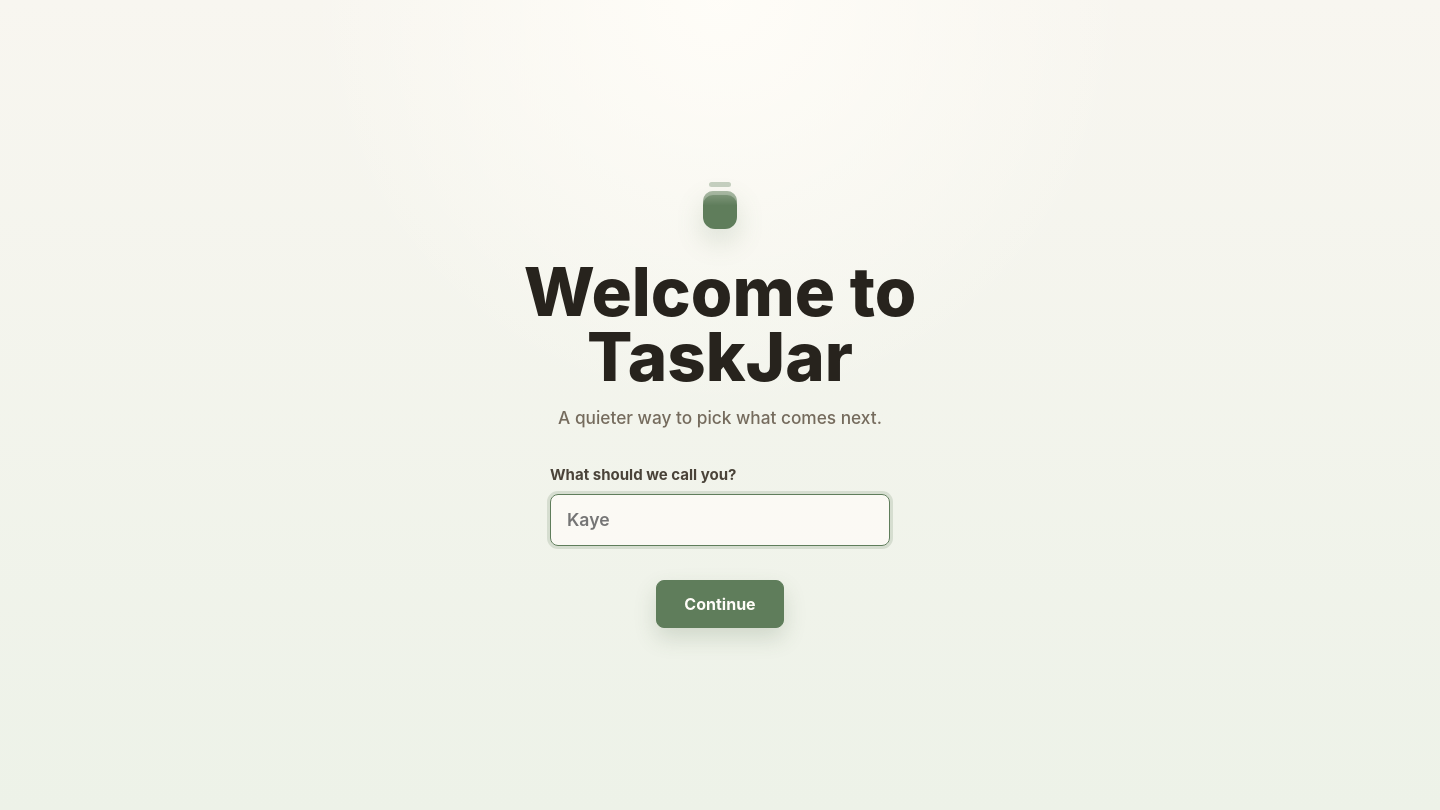
Test case: onboards first-run users with a name and starter jars
The image size is (1440, 810).
Type "Mina" into the field with placeholder "Kaye" at (720, 520), box [550,494,890,546]
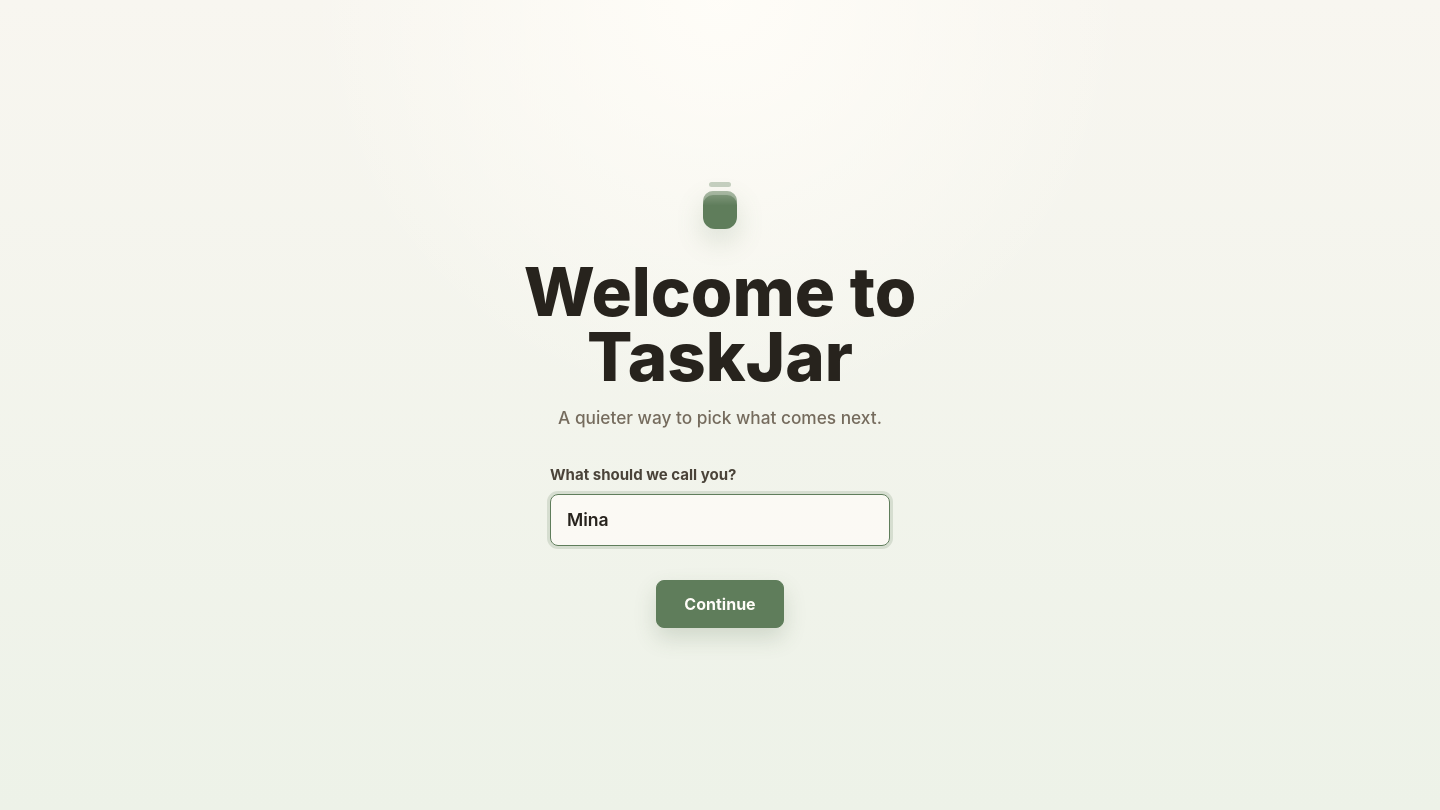
Click the button "Continue" at (720, 604), box [656,580,784,628]
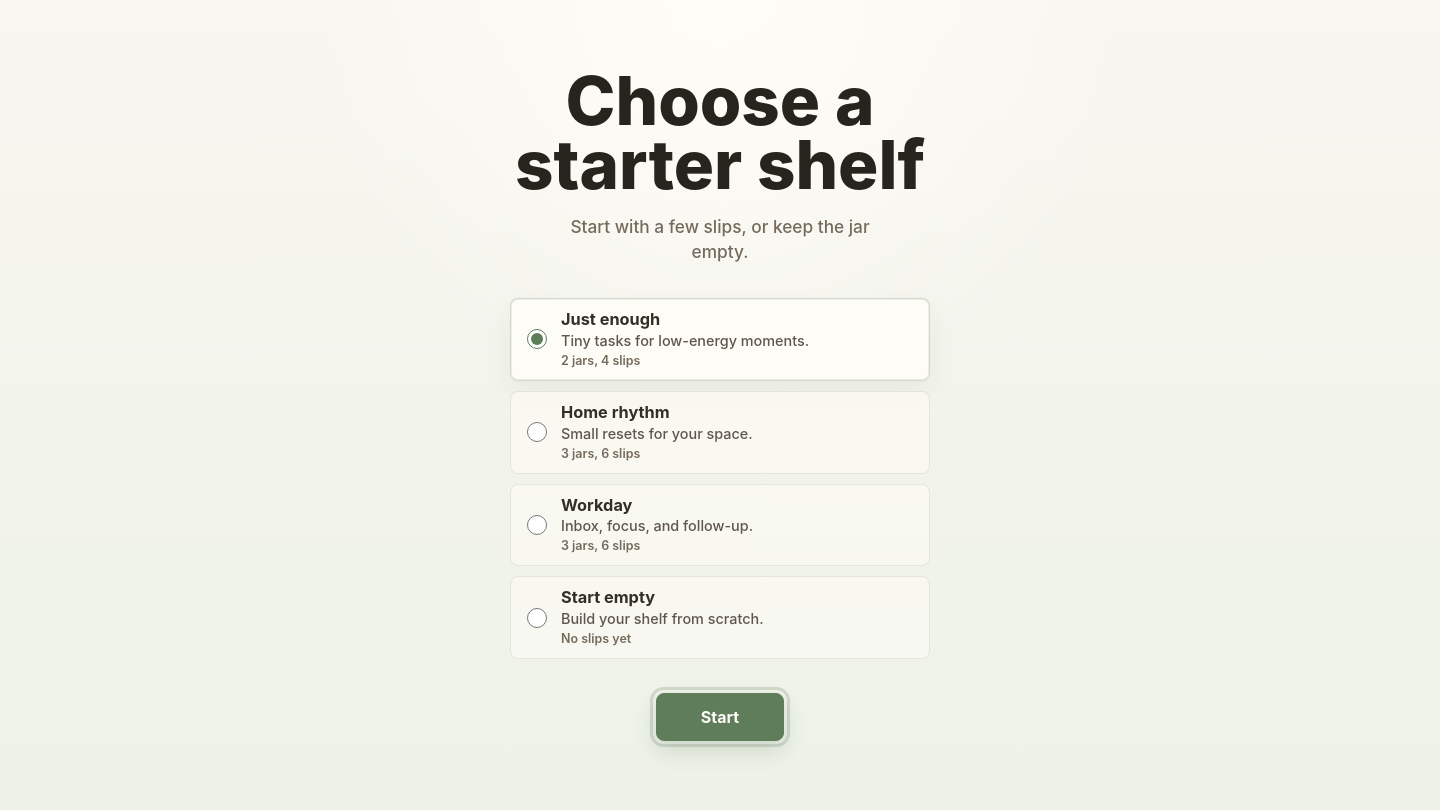
Expected: the dialog "Choose a starter shelf" is shown
Click the radio button labelled "Home rhythm Small resets for your space. 3 jars, 6 slips" at (537, 432), box [527,422,547,442]
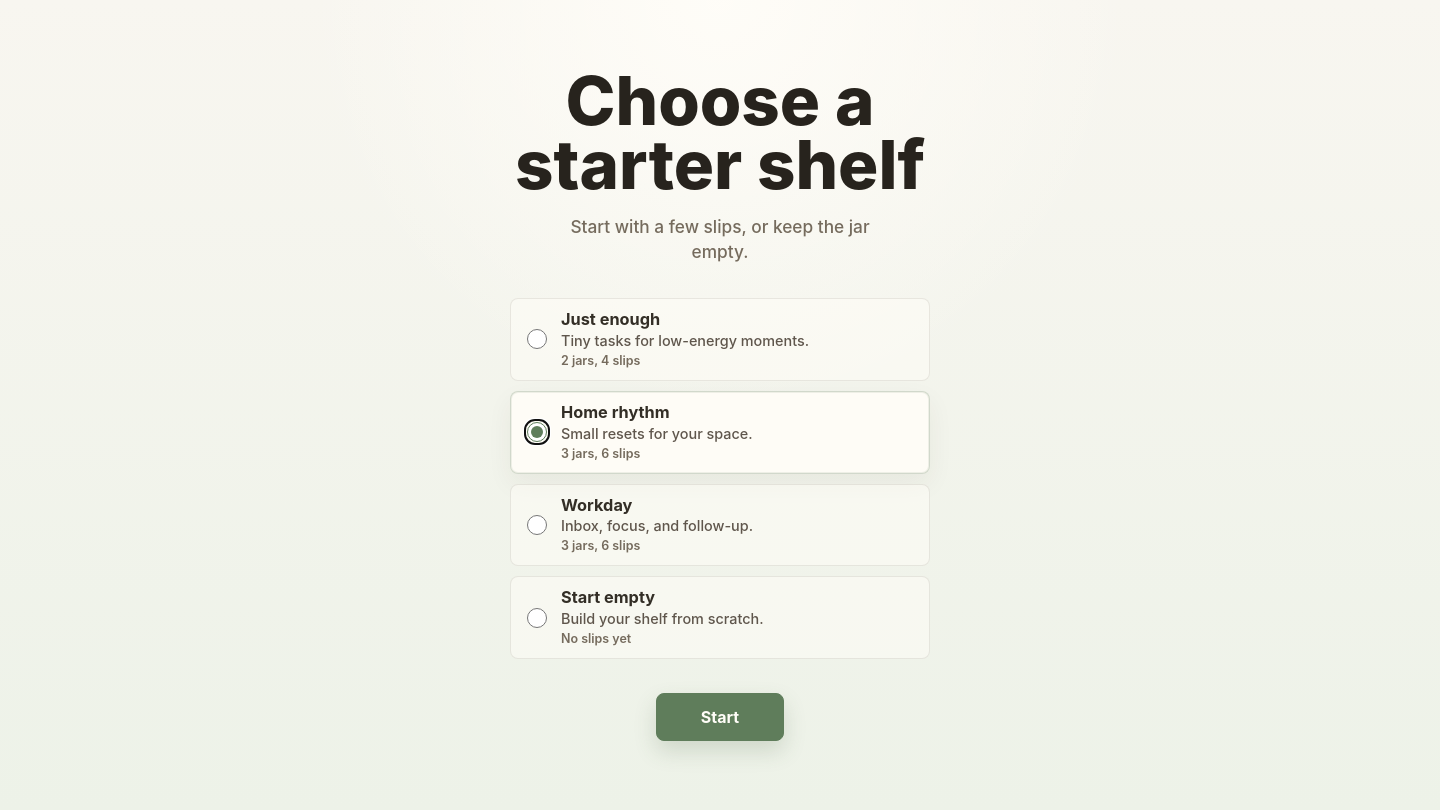
Click the button "Start" at (720, 717), box [656,693,784,741]
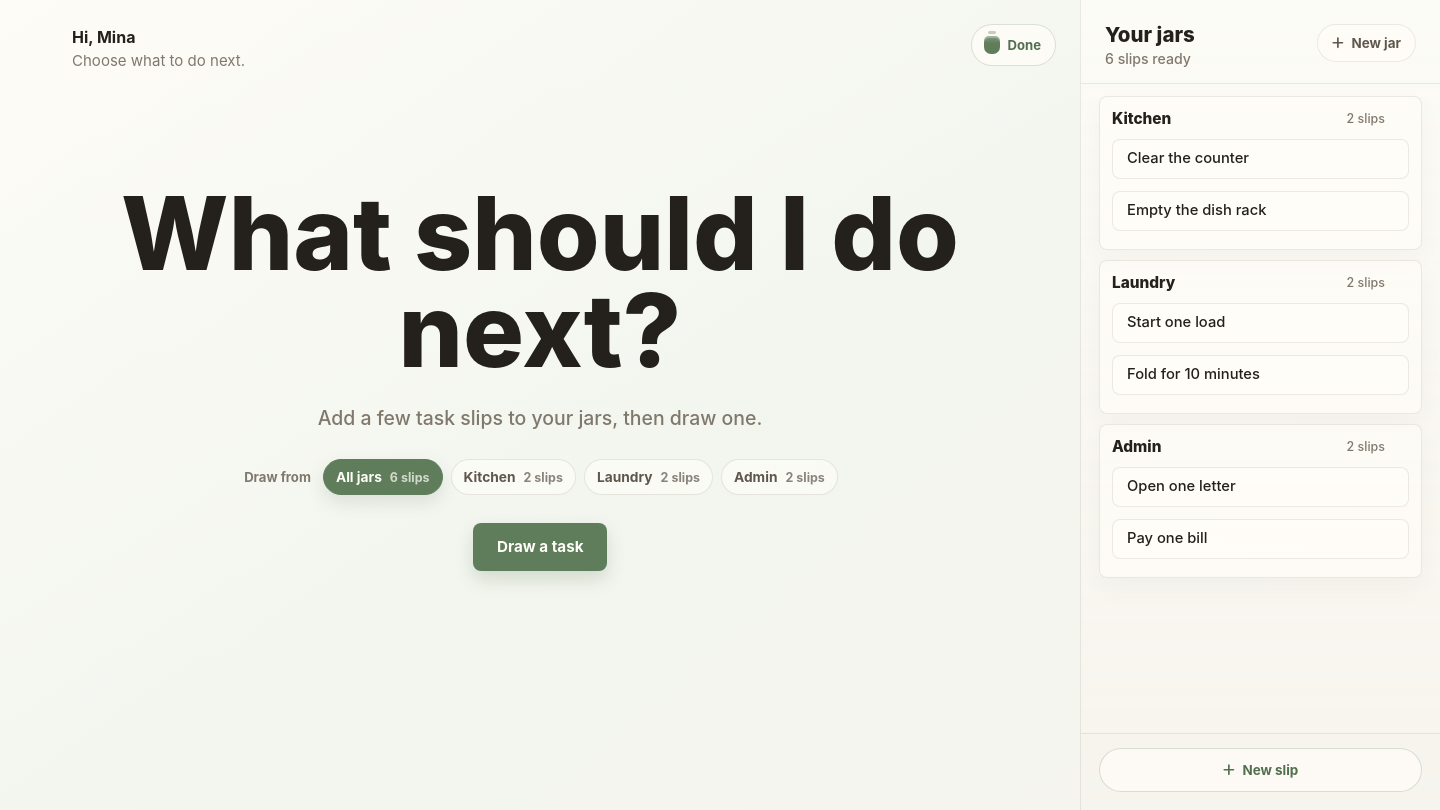
Expected: the dialog is gone
